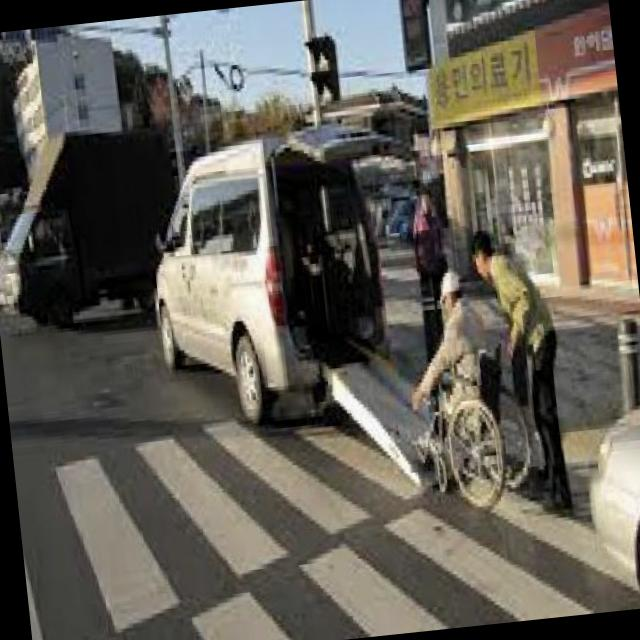Person: (400, 262, 536, 512), (468, 223, 578, 518)
